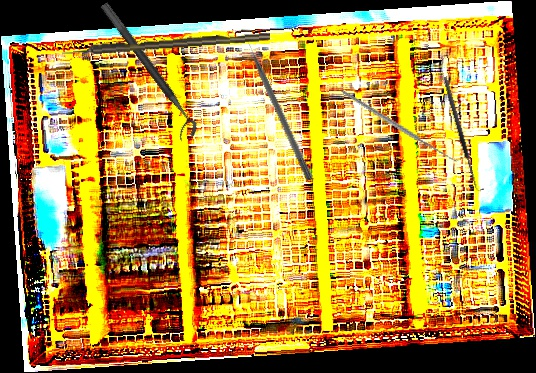Fixation Ring: (89, 1, 202, 144)
Hook Surgical: (341, 55, 463, 195), (61, 31, 271, 57), (441, 74, 486, 193)
Pusher: (242, 33, 315, 182)
